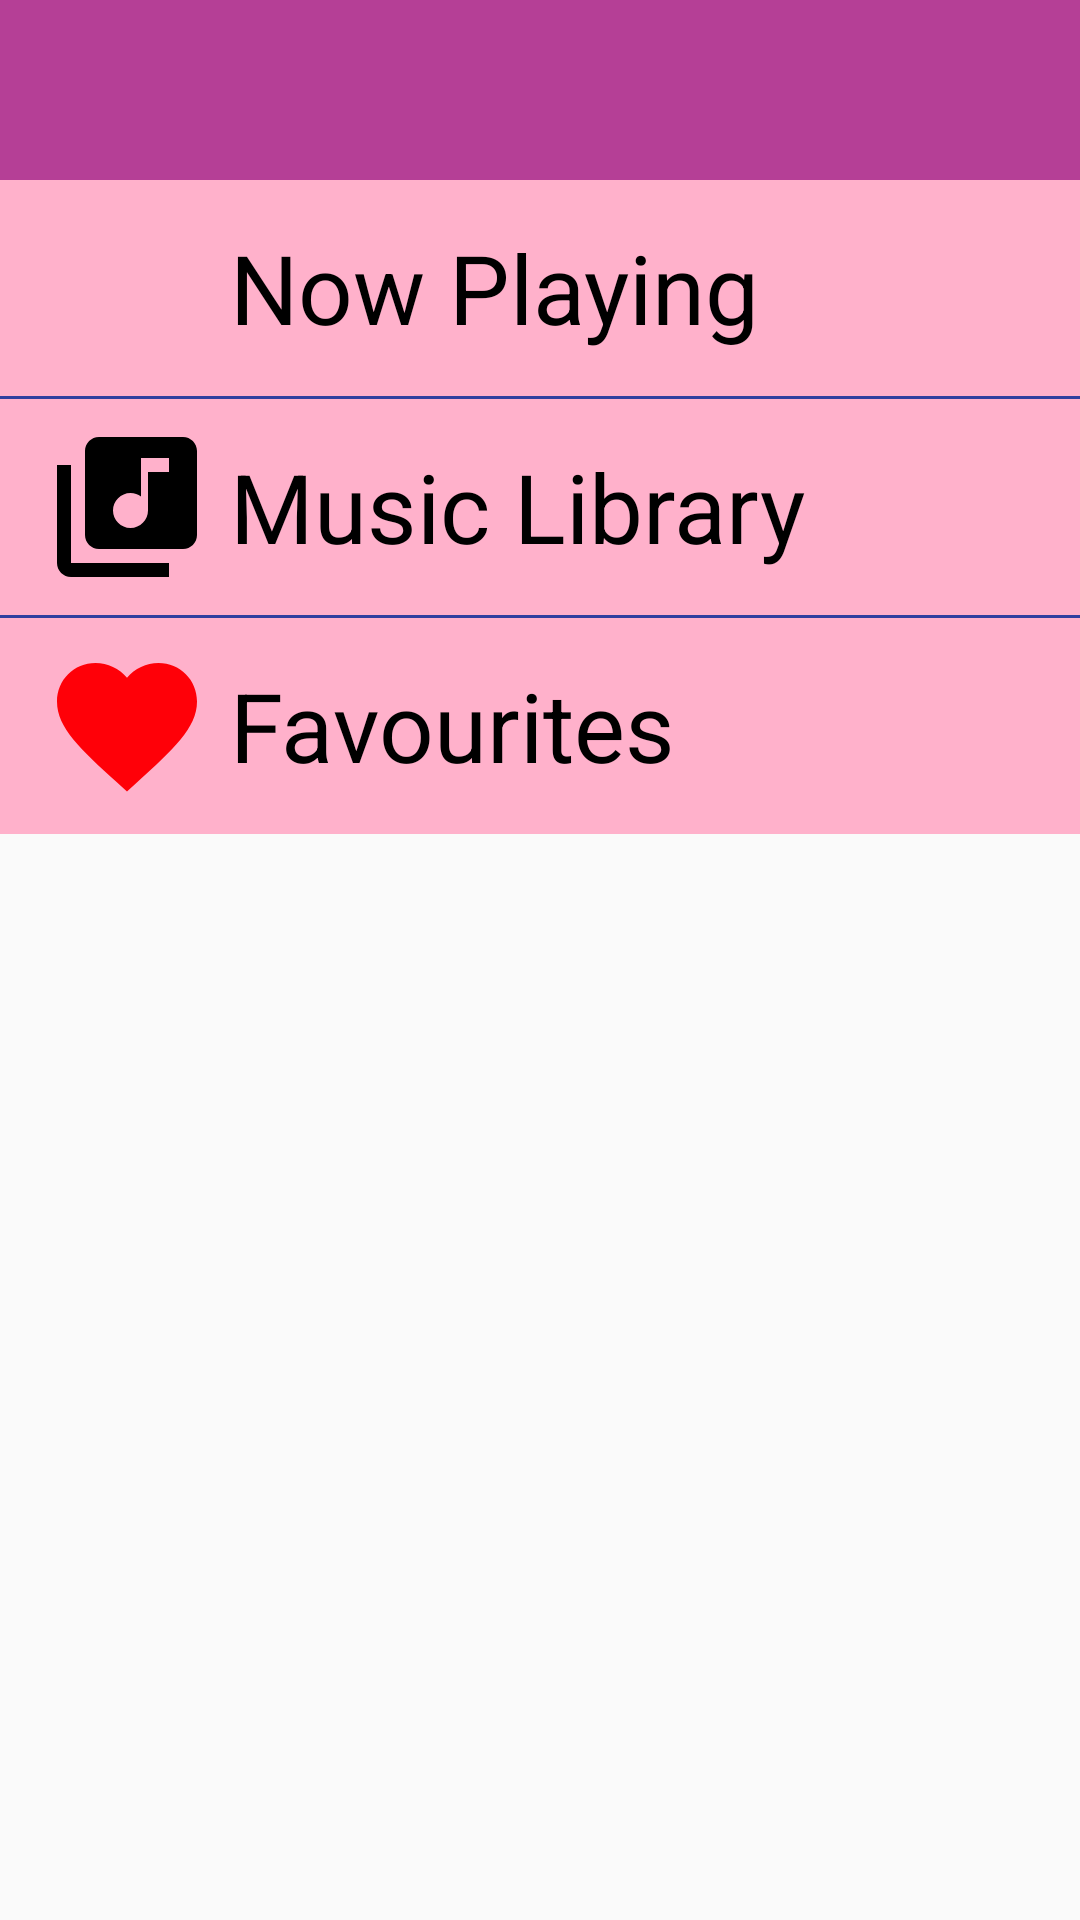

Where to tap for icons on this 1080 x 1920 app screen, as (x,y):
favorite: (127,727)
